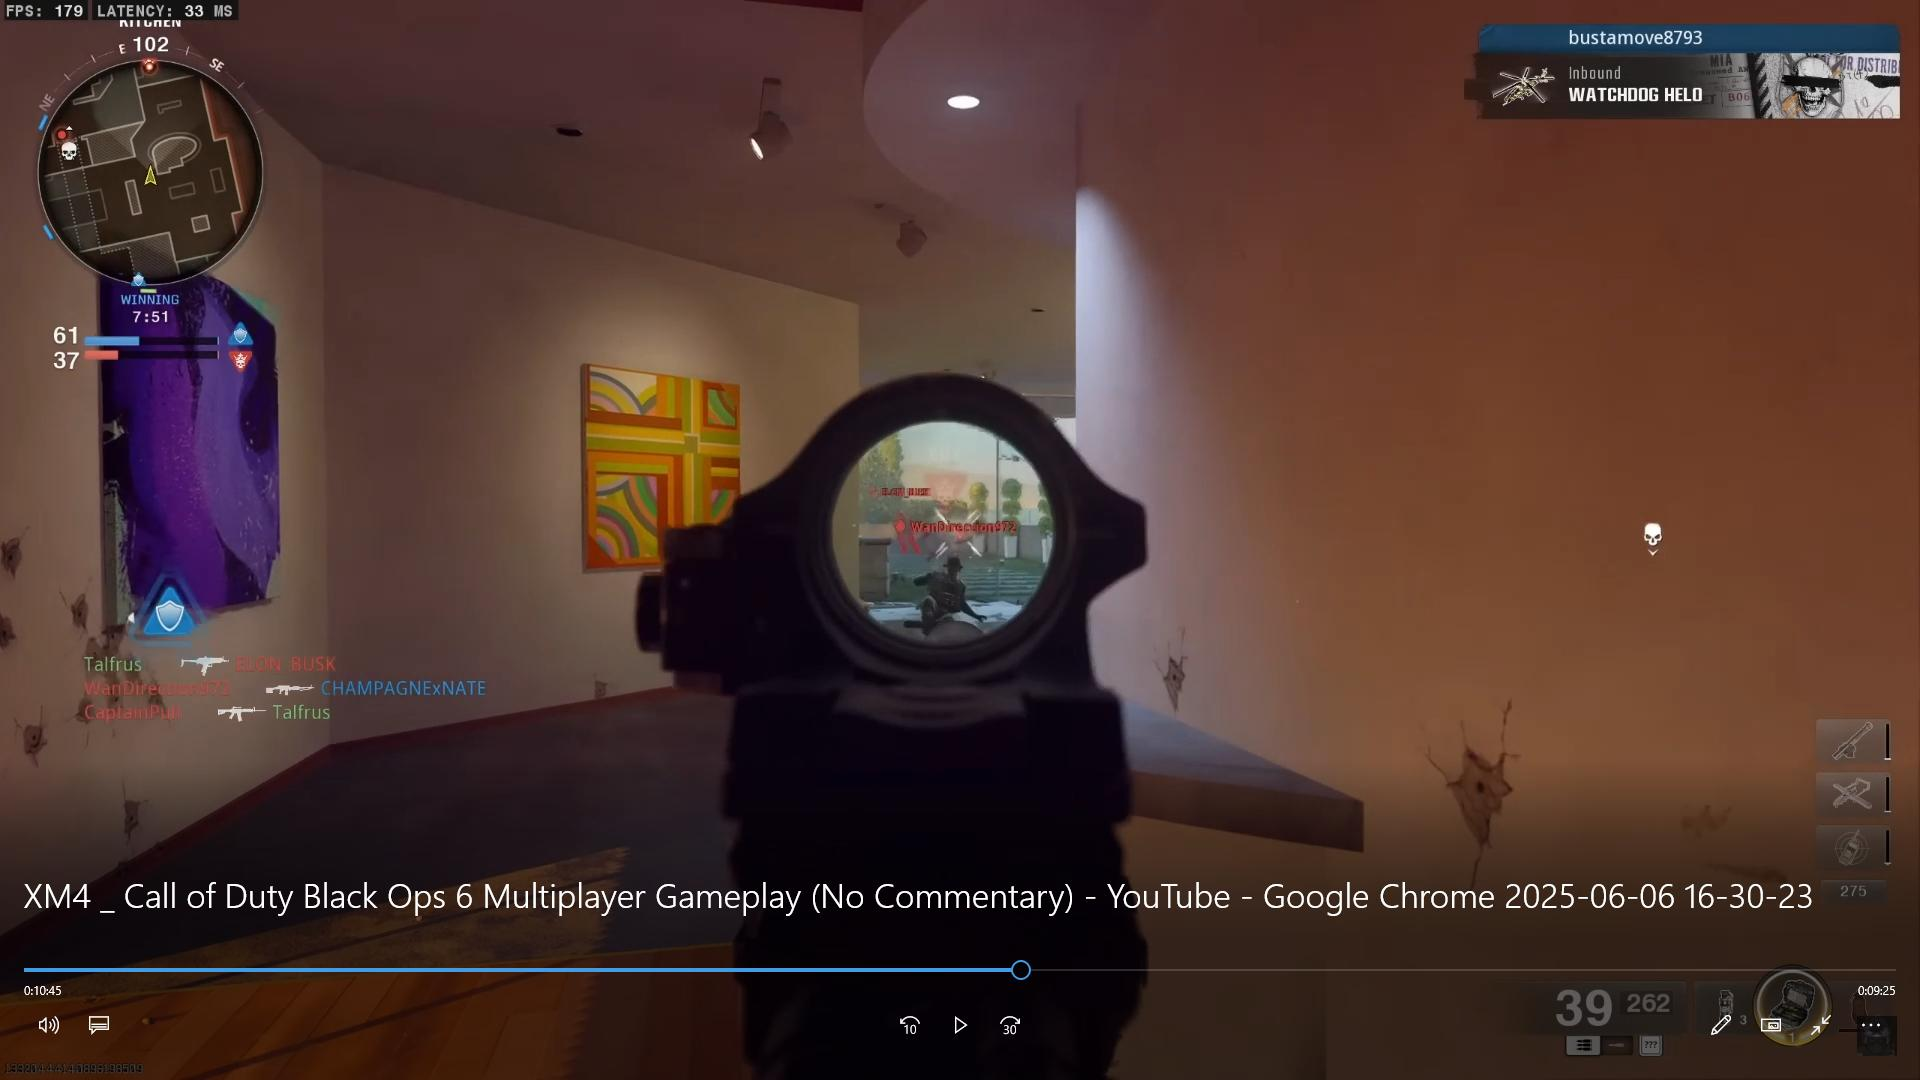Enemy: (913, 543, 984, 634), (882, 500, 919, 553)
